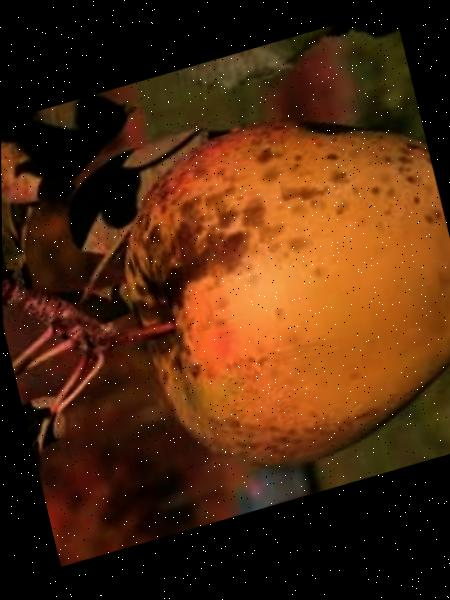BLOTCH: (64, 64, 450, 522)
